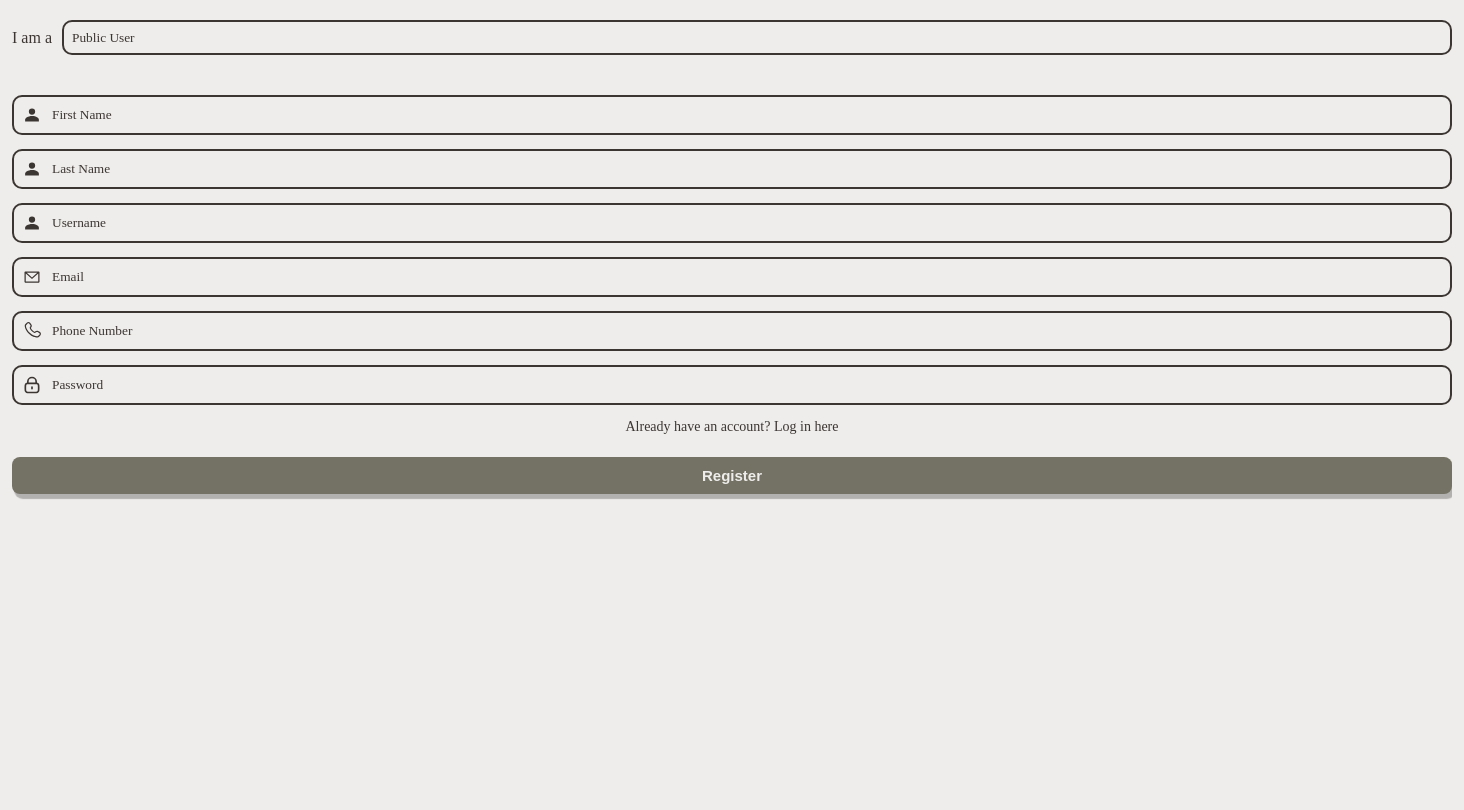
Test case: SignUpAsClient Component › validates phone number format
Step 1. Type "invalid" into the field with placeholder "Phone Number" → {"x": 747, "y": 331}, box [52, 323, 1442, 339]
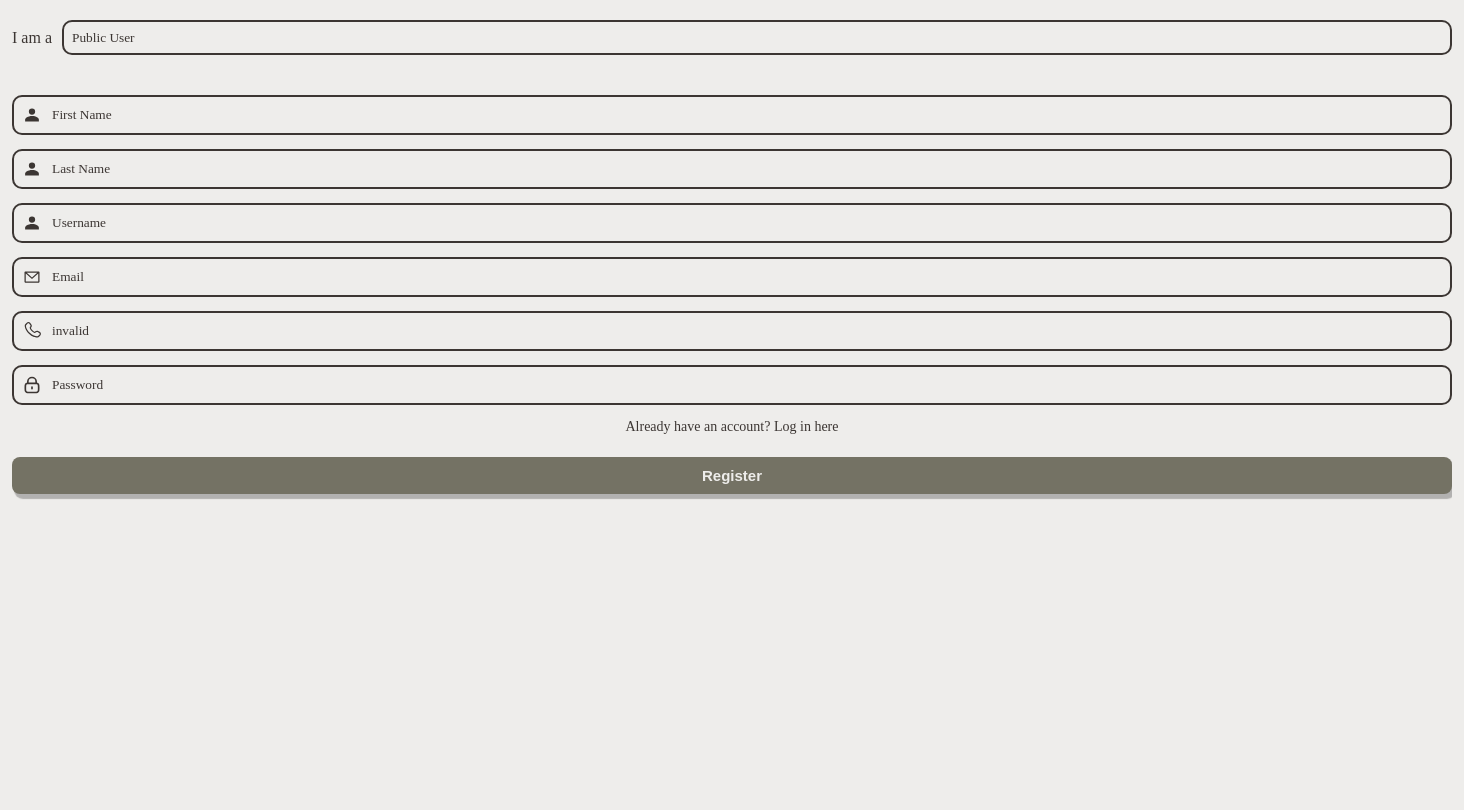
Step 2. Click the button "Register" → {"x": 732, "y": 476}, box [12, 457, 1452, 494]
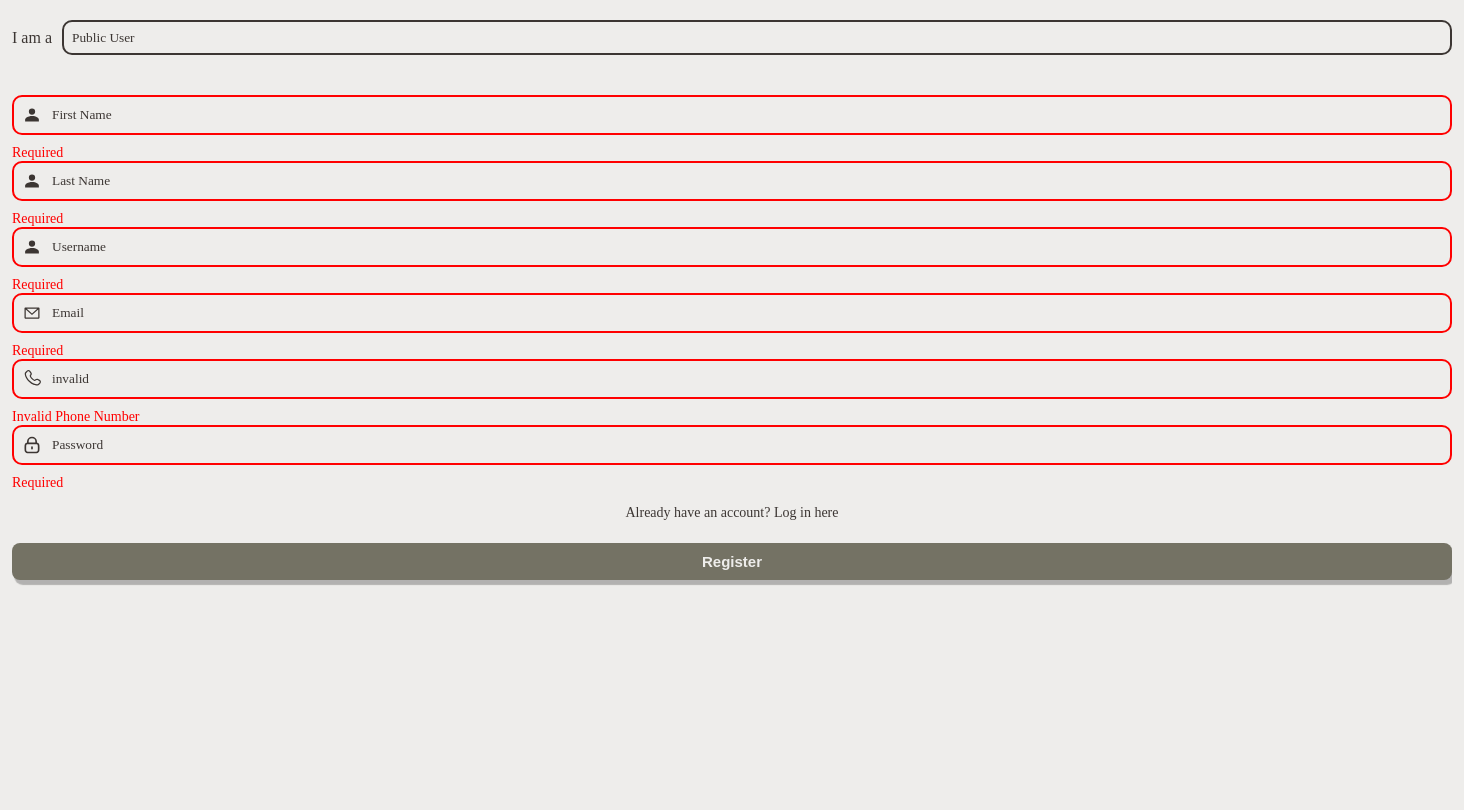
expect the text "Invalid Phone Number" is shown: met, box [12, 409, 140, 424]
